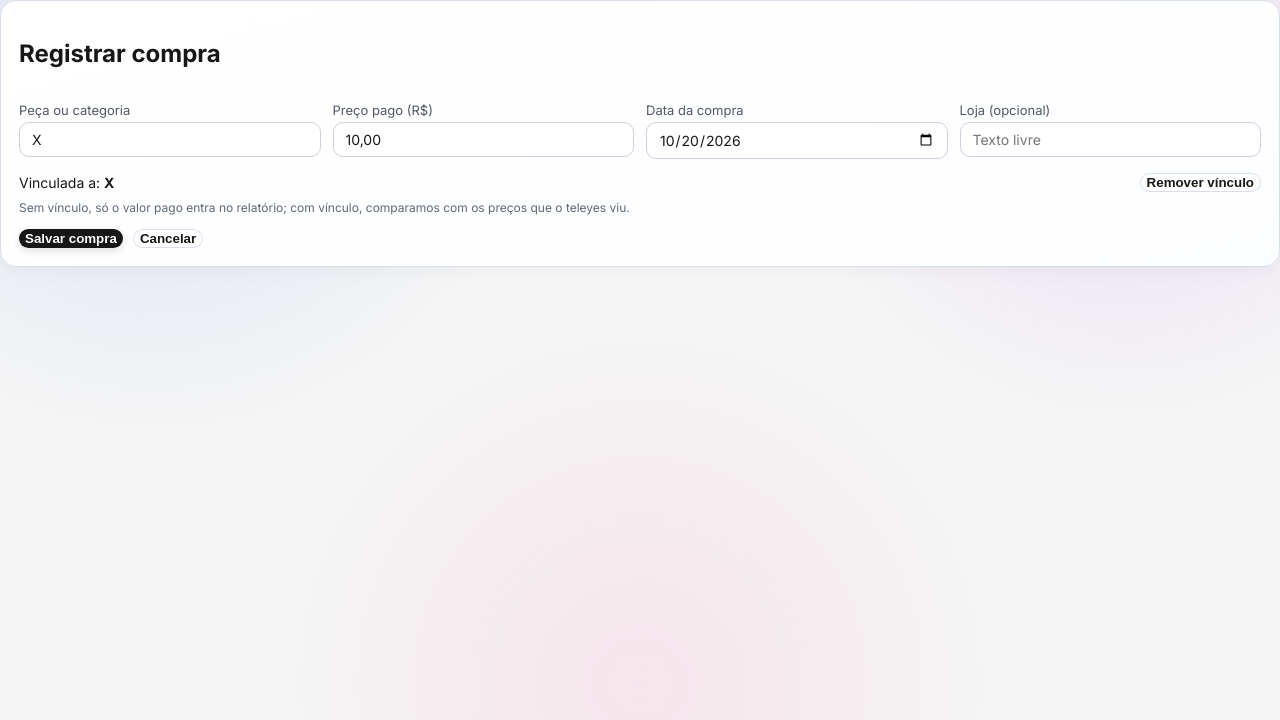
Test case: PurchaseForm › removes the link
This screenshot has width=1280, height=720.
Click the button "Remover vínculo": (1200, 182) [1140,173,1261,192]
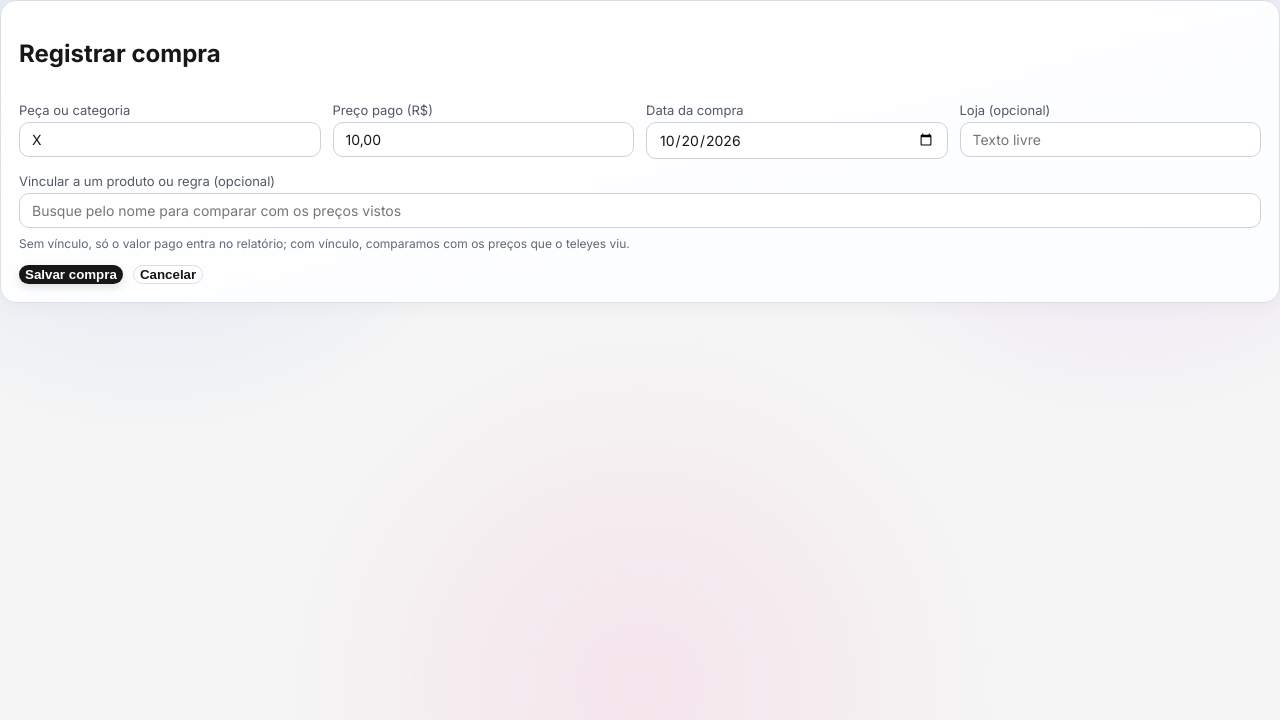
expect the dropdown labelled "Vincular a um produto ou regra (opcional)" is shown: met, box [19,193,1261,228]
